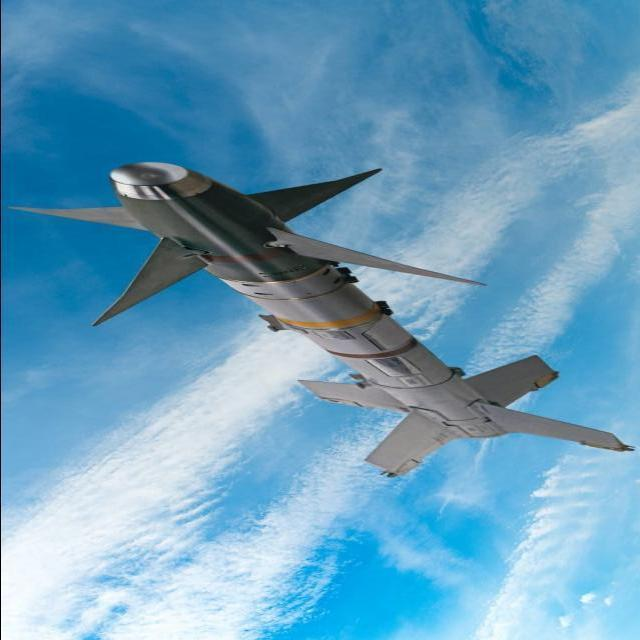missile: (18, 158, 636, 477)
